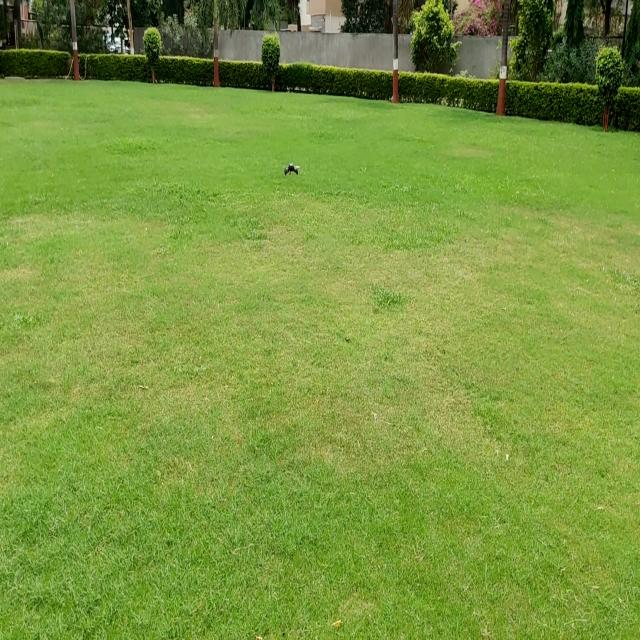drone: (274, 155, 306, 178)
